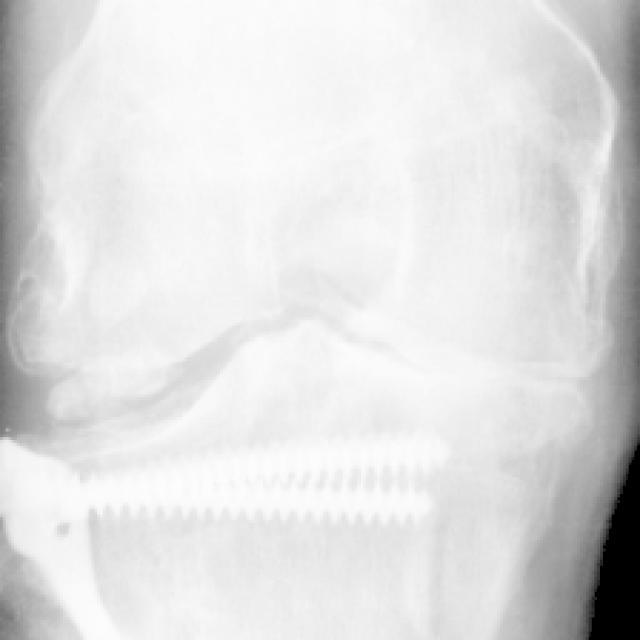femur: (4, 0, 625, 422)
tibia: (0, 318, 594, 640)
